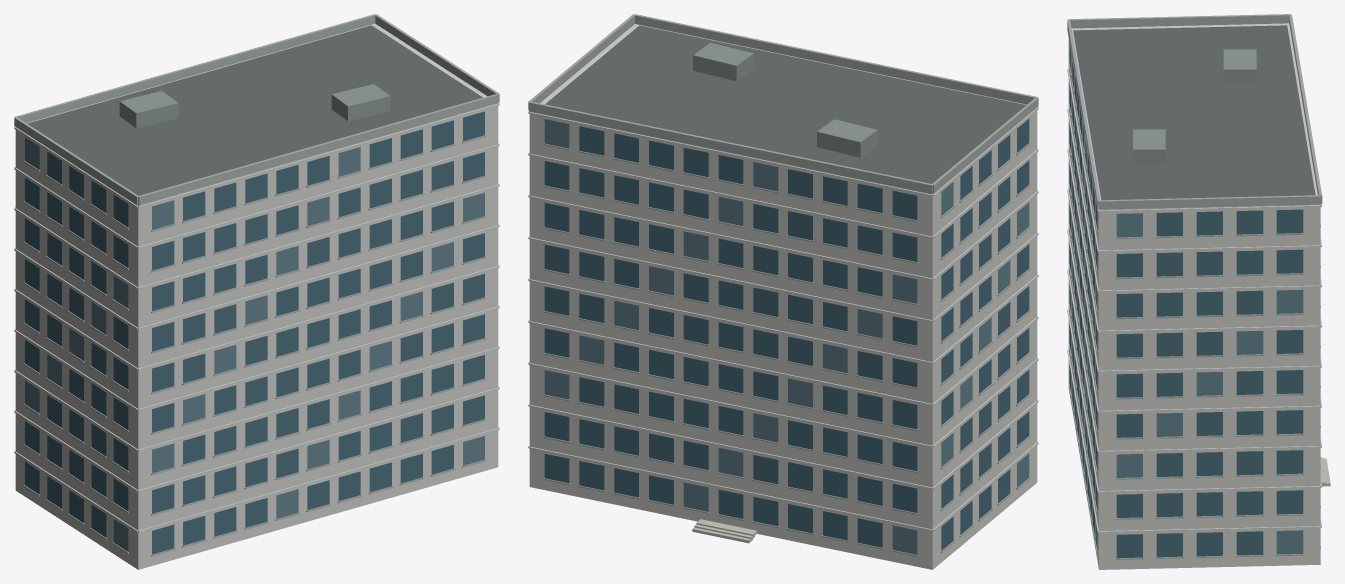
File: 软件园与科创楼-006.glb
The picture shows the model from 3 angles, left to right: view 1: azimuth 30°, elevation 25°; view 2: azimuth 150°, elevation 25°; view 3: azimuth 270°, elevation 25°; orthographic projection. The views are drawn at different scales.
Visible parts, largest first — view 1: 软件园与科创楼-006; view 2: 软件园与科创楼-006; view 3: 软件园与科创楼-006.
Part boxes in pixels (bbox=[...]): 软件园与科创楼-006: bbox=[14, 14, 499, 569]; 软件园与科创楼-006: bbox=[528, 14, 1038, 569]; 软件园与科创楼-006: bbox=[1067, 14, 1330, 569].
Bounding box in the file's own units: 36.77 × 34.42 × 21.83.
